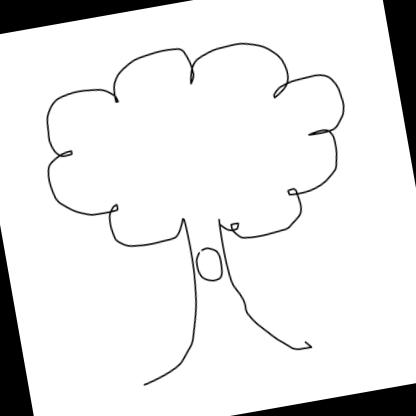crown_cloud: (29, 20, 364, 270)
knot: (192, 243, 226, 285)
trunk_straight: (180, 236, 252, 326)
